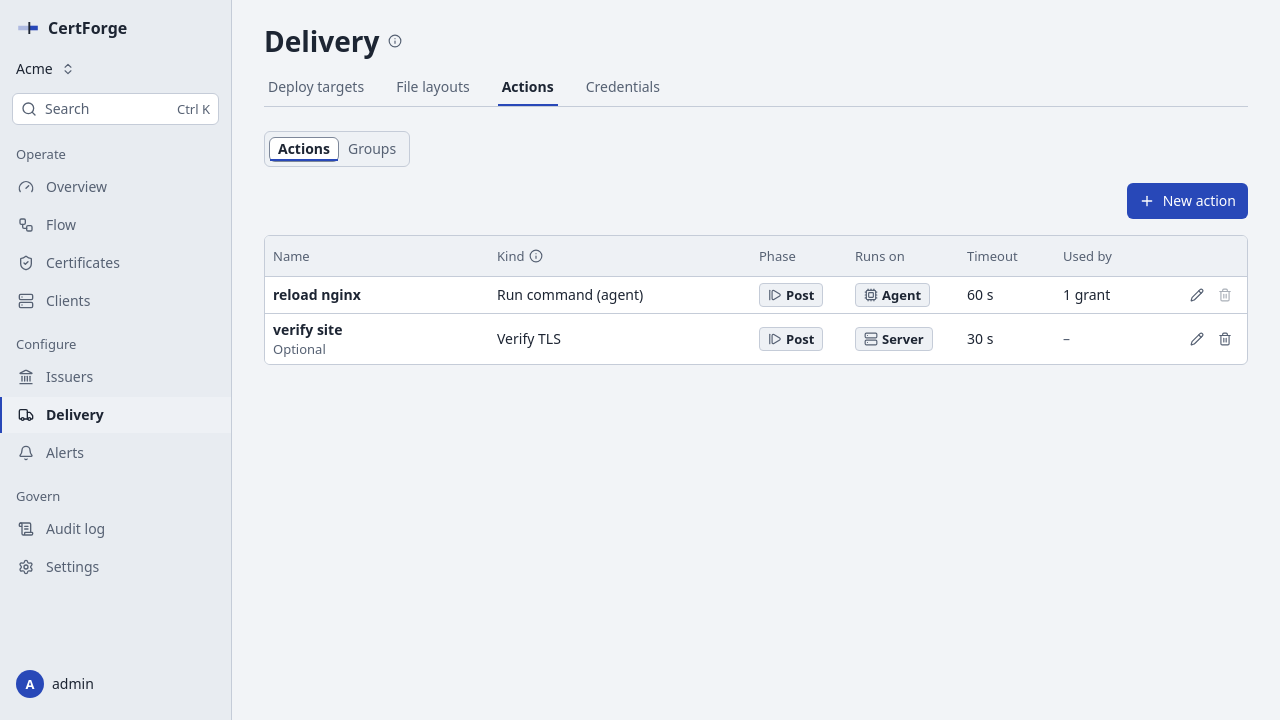
it: shows a 409 (still used) inside the delete dialog
The width and height of the screenshot is (1280, 720).
Click the button named "Delete verify site" at (1225, 338), box [1211, 324, 1239, 352]
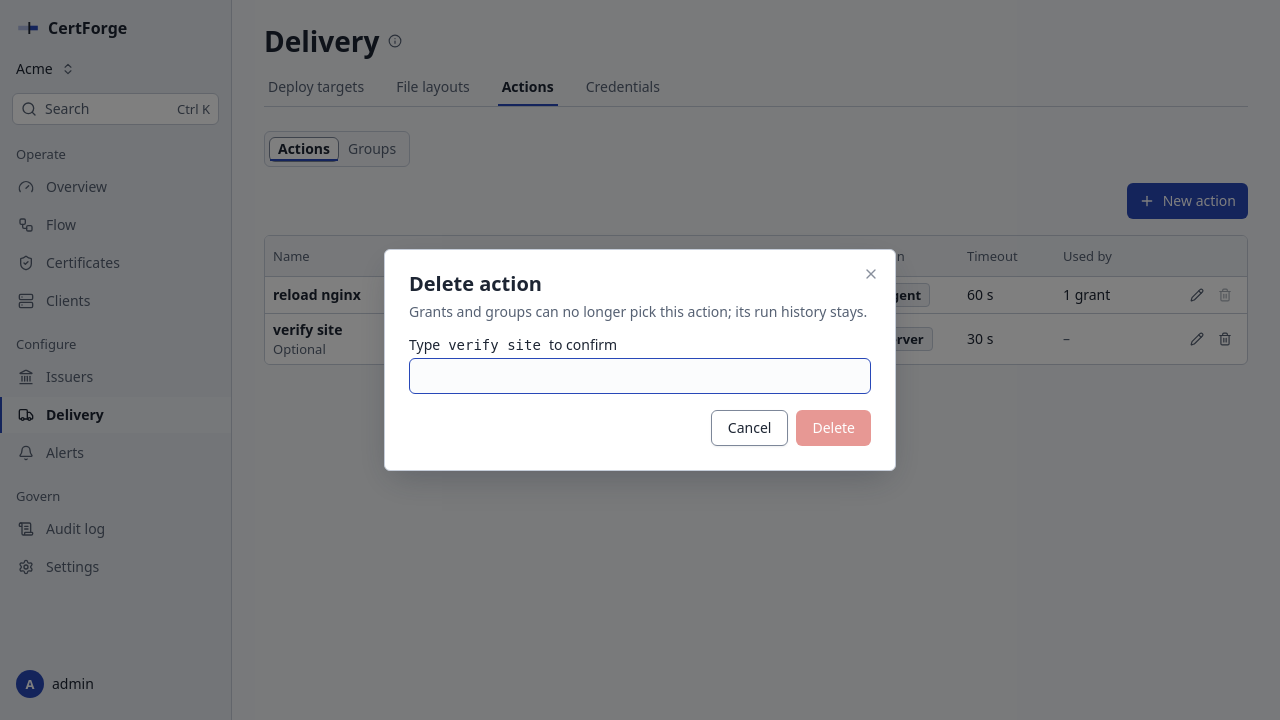
Type "verify site" into the field labelled "Type verify site to confirm" at (640, 376), box [409, 358, 871, 394]
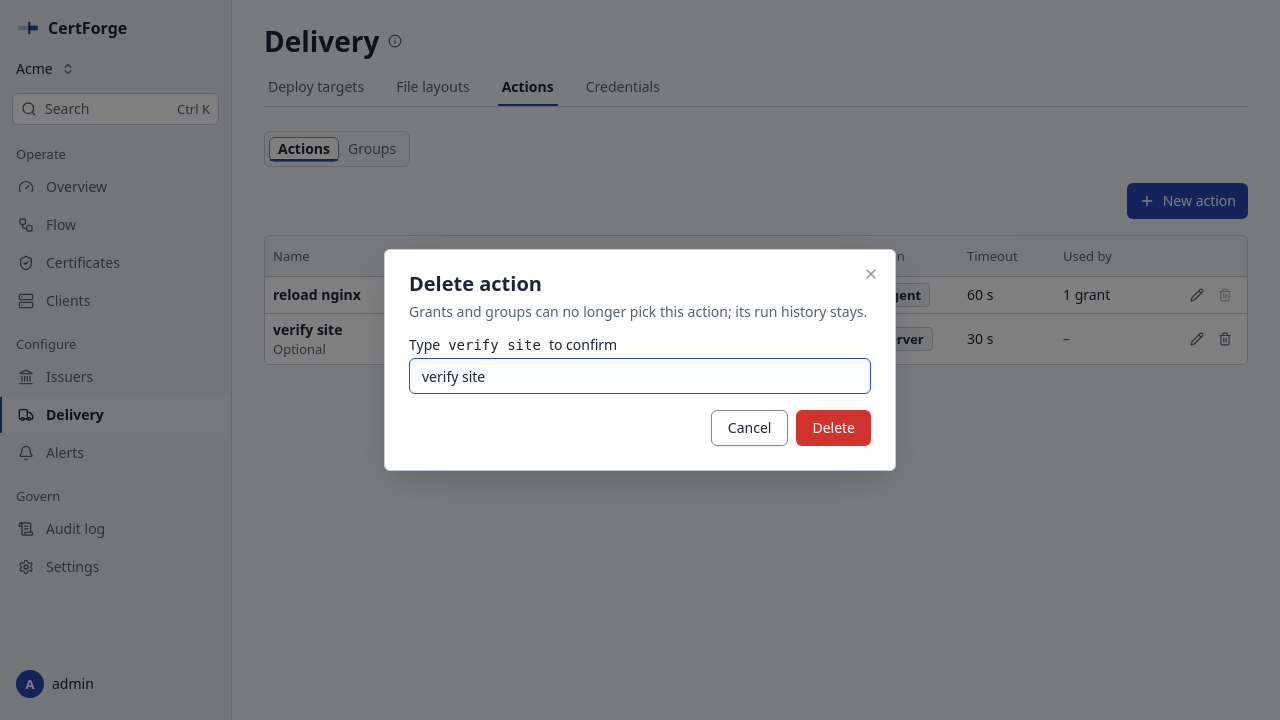
Click the button "Delete" at (834, 428), box [796, 410, 871, 446]
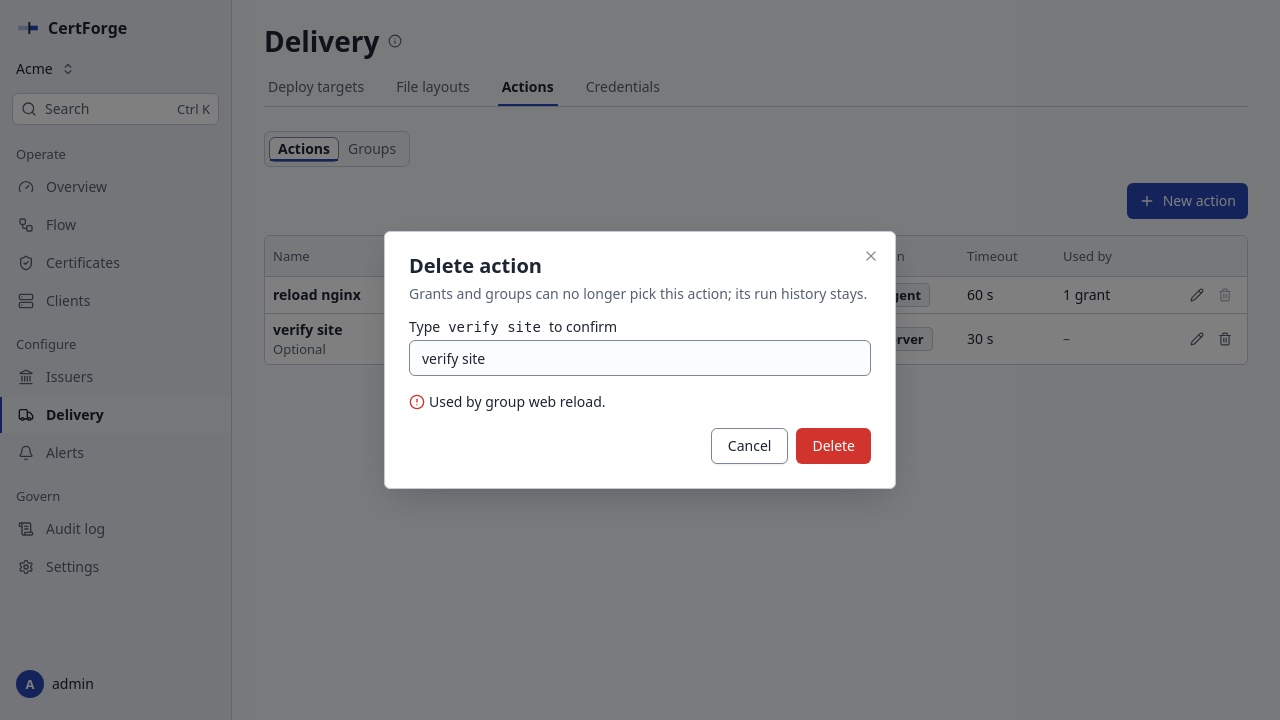
Expected: the text "Used by group web reload." is shown, [409, 392, 606, 411]
